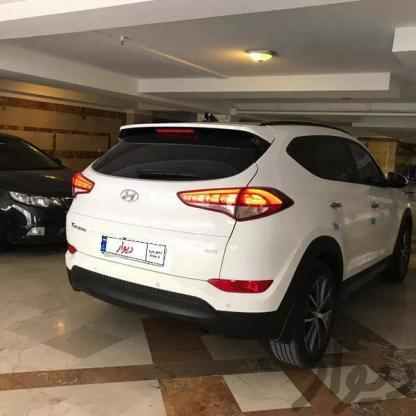Car: (57, 110, 416, 364), (0, 118, 87, 247)
